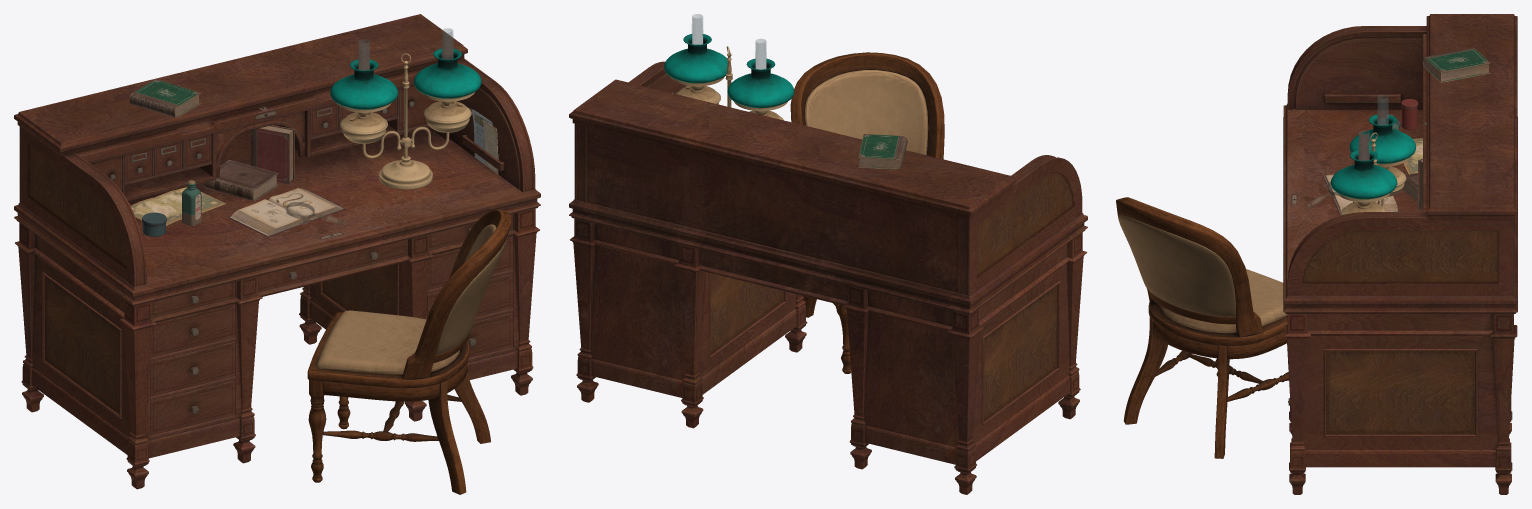
File: antique_desk.glb
3 renders of one model, left to right at view 1: azimuth 30°, elevation 25°; view 2: azimuth 150°, elevation 25°; view 3: azimuth 270°, elevation 25°, orthographic.
Visible parts, largest first — view 1: Table, Chair, Lamp, Open_book, Book_3, Book_1, Book_2, Note_3, Bottle; view 2: Table, Chair, Lamp, Book_2; view 3: Table, Chair, Lamp, Book_2, Open_book, Jar_1.
Boxes of the visible parts, left/top/right/bottom form: Table: left=14, top=14, right=540, bottom=489; Chair: left=307, top=209, right=511, bottom=494; Lamp: left=330, top=28, right=481, bottom=189; Open_book: left=228, top=188, right=345, bottom=236; Book_3: left=250, top=125, right=294, bottom=184; Book_1: left=203, top=160, right=278, bottom=201; Book_2: left=129, top=79, right=200, bottom=117; Note_3: left=130, top=187, right=225, bottom=225; Bottle: left=182, top=180, right=201, bottom=226; Table: left=569, top=61, right=1087, bottom=494; Chair: left=790, top=52, right=944, bottom=373; Lamp: left=664, top=14, right=794, bottom=120; Book_2: left=858, top=134, right=907, bottom=169; Table: left=1283, top=14, right=1517, bottom=494; Chair: left=1116, top=197, right=1288, bottom=458; Lamp: left=1330, top=95, right=1416, bottom=215; Book_2: left=1422, top=47, right=1490, bottom=82; Open_book: left=1322, top=174, right=1399, bottom=215; Jar_1: left=1401, top=99, right=1418, bottom=130.
Size of the model in its own units: 1.62 by 1.32 by 1.41.
15 materials, 15 textured.
